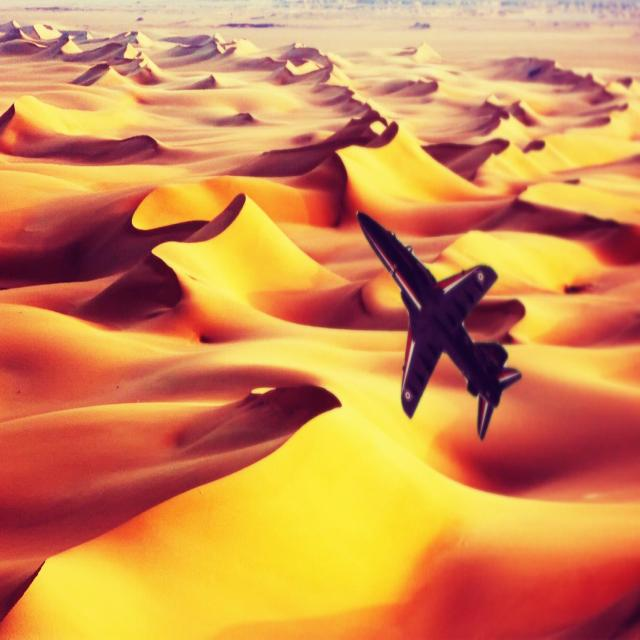airplane: (356, 208, 524, 441)
